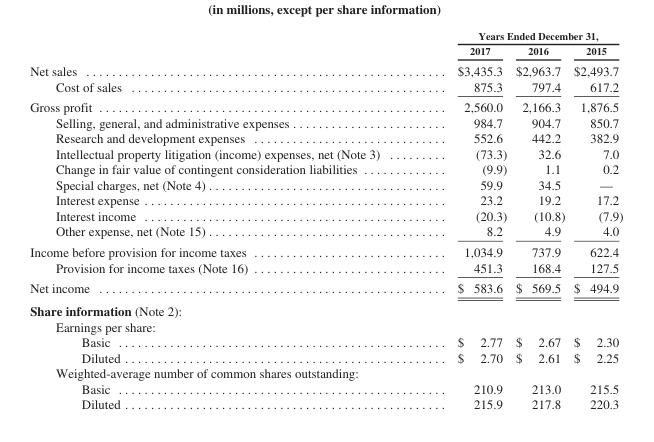table: (29, 29, 622, 411)
table column: (29, 29, 418, 411), (418, 29, 510, 411), (510, 29, 568, 411), (568, 29, 622, 411)
table column header: (29, 29, 622, 60)
table projected row header: (29, 299, 622, 318), (29, 318, 622, 334), (29, 365, 622, 380)
table row: (29, 277, 622, 299), (29, 299, 622, 318), (29, 60, 622, 78), (29, 78, 622, 96), (29, 96, 622, 114), (29, 223, 622, 241), (29, 241, 622, 259), (29, 259, 622, 277), (29, 43, 622, 60), (29, 114, 622, 130), (29, 145, 622, 161), (29, 176, 622, 192), (29, 207, 622, 223), (29, 318, 622, 334), (29, 349, 622, 365), (29, 380, 622, 396), (29, 130, 622, 145), (29, 161, 622, 176), (29, 192, 622, 207), (29, 334, 622, 349), (29, 365, 622, 380), (29, 396, 622, 411), (29, 29, 622, 43)
table spanning cell: (418, 29, 622, 43)
